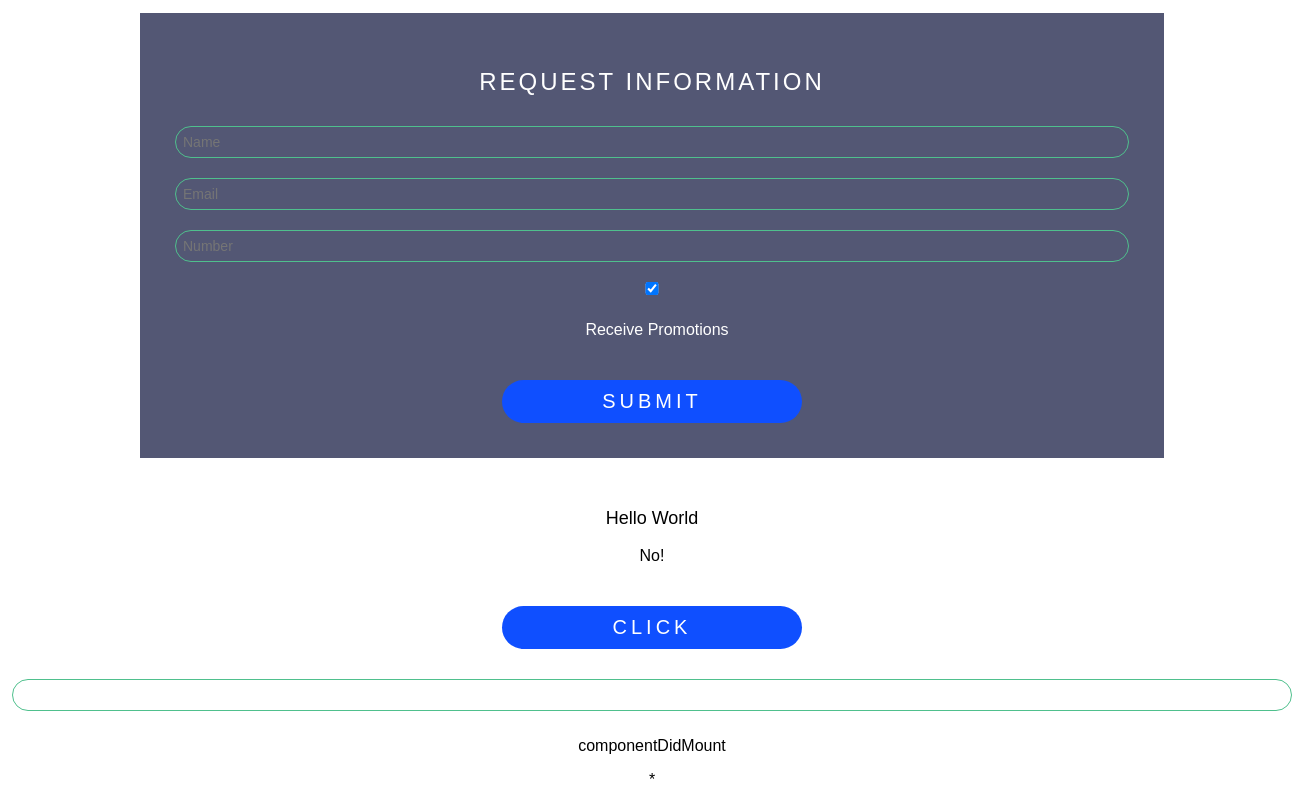
Test: <App /> shallow rendering › on button click changes p text
The image size is (1304, 789).
(page scrolled)
Expected: the button with class "button-state" reads "No!", 640,547 -> 664,564
Click the button "Click": (652, 627) 502,606 -> 802,649
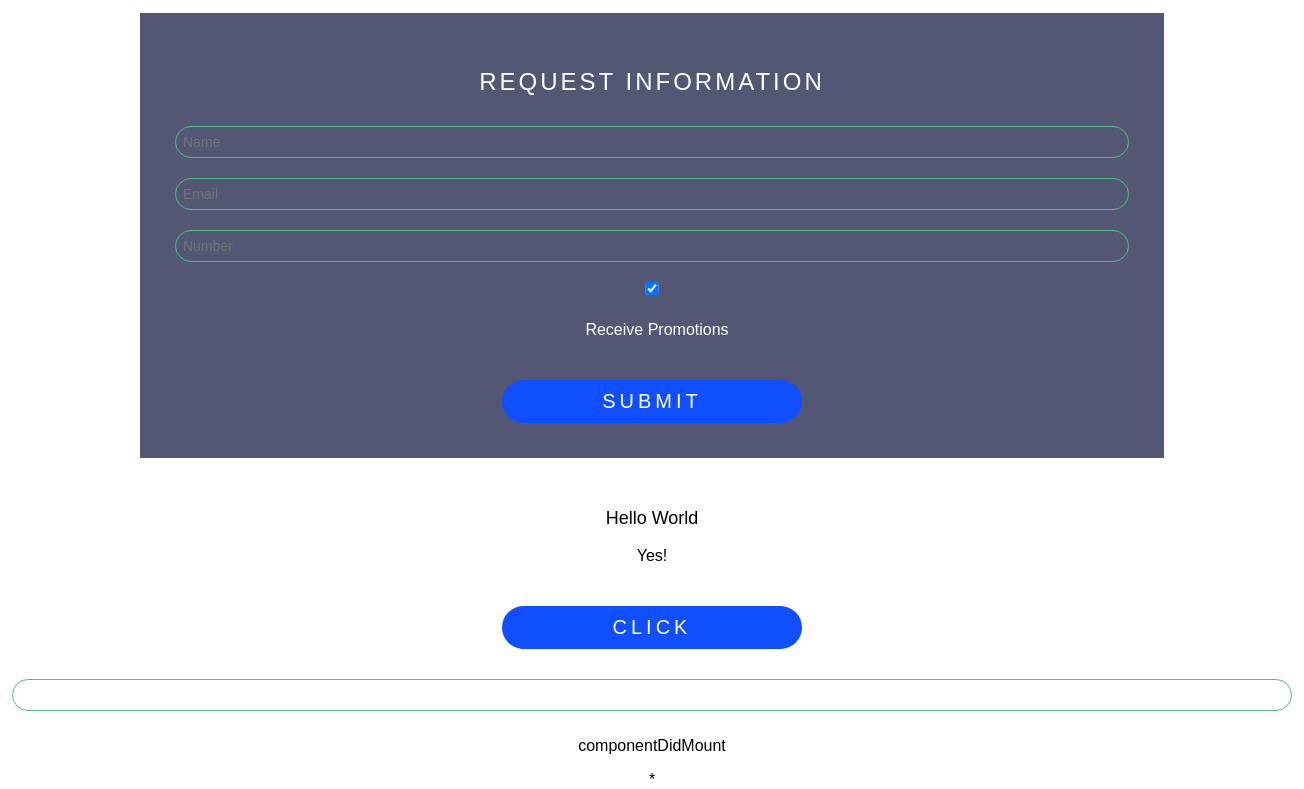
Result: the button with class "button-state" reads "Yes!" at 637,547 -> 667,564
